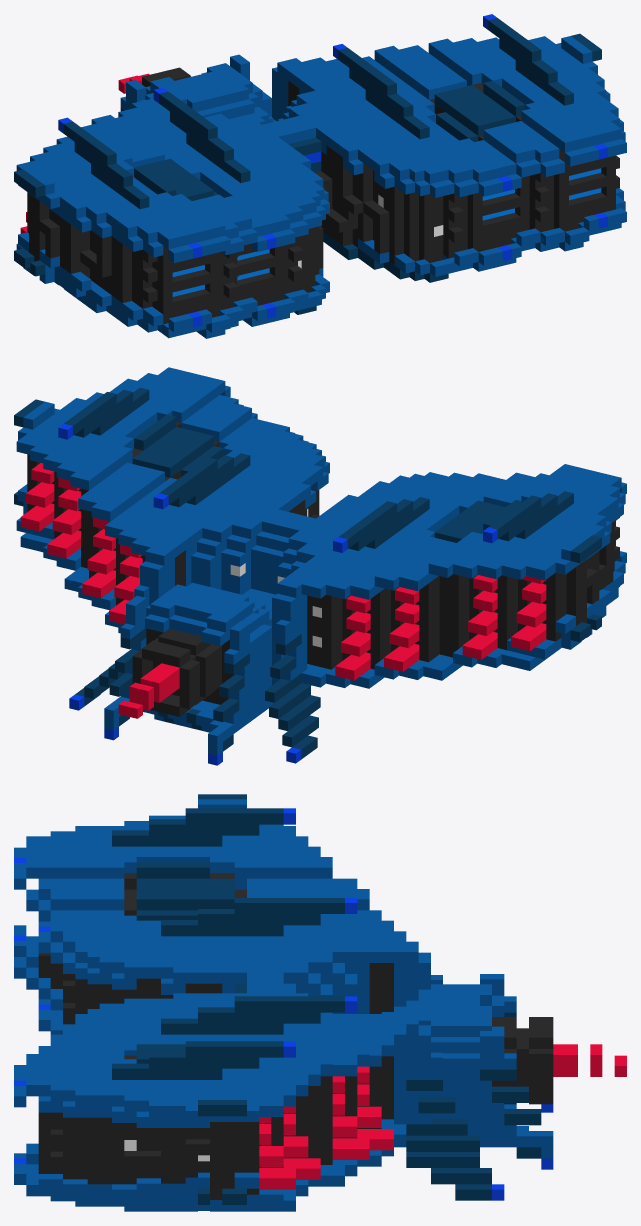
File: UltravioletIntruder.obj
3 views of the same model, one above another, from view 1: azimuth 30°, elevation 25°; view 2: azimuth 150°, elevation 25°; view 3: azimuth 270°, elevation 25° (orthographic). The views are drawn at different scales.
Bounding box in the file's own units: 6 × 1.9 × 5.
1 material, 1 textured.
